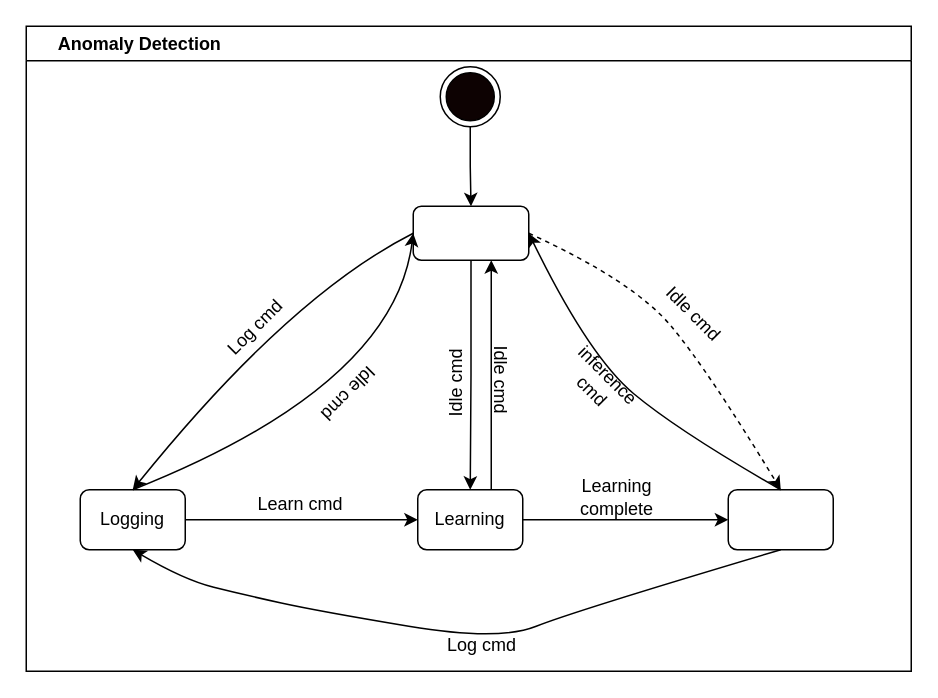
Some shapes in this 938 by 698 pixel diagram are drawn without their labels. Here are the shapes that lost their labels. From the top down, the centre of each, then its label:
(470,232): Idle
(780,519): Inference
